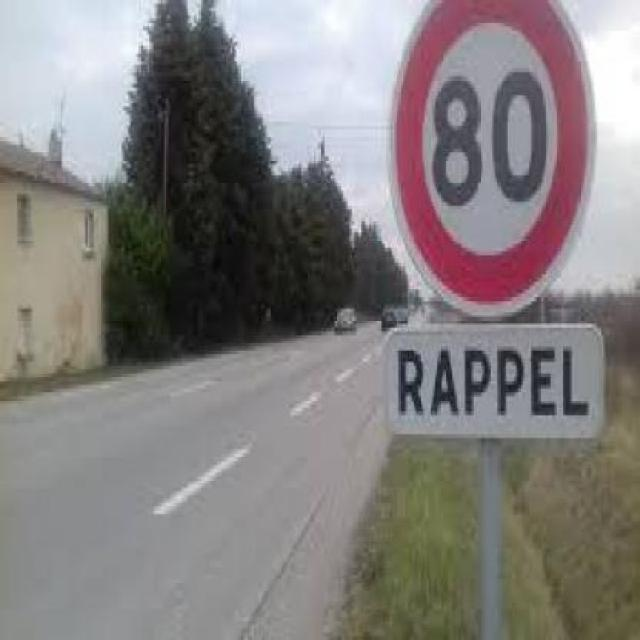forb_speed_over_80: (407, 11, 581, 278)
